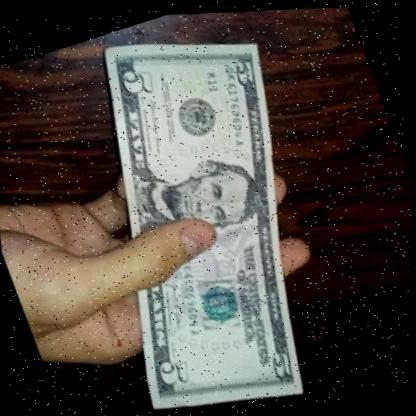five-front: (14, 0, 385, 416)
